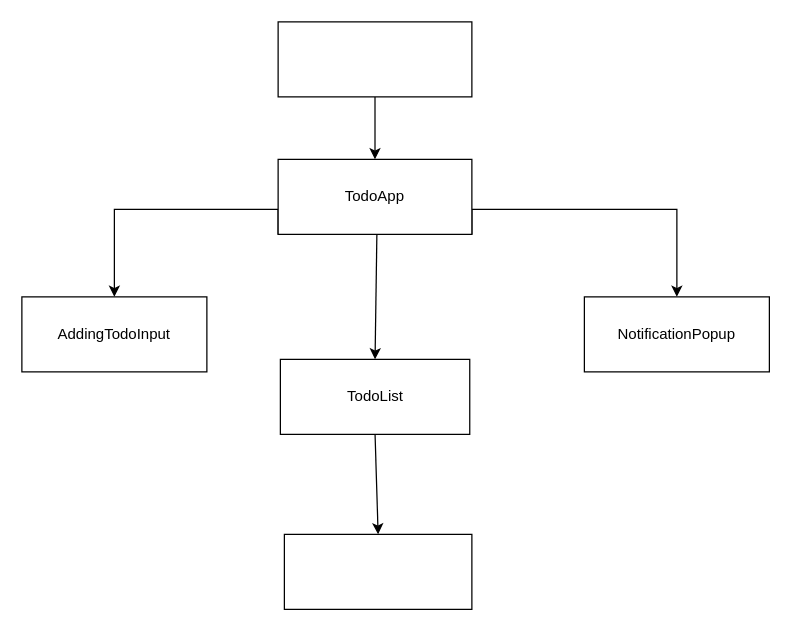
Image size: 791x631. Some labels were removed from this diagram. The shapes that lost their labels are listed below. From the top down, each one's centre as x and y in pixels, then its label:
At point 374,59: "App".
At point 377,571: "TodoItem(List)".
